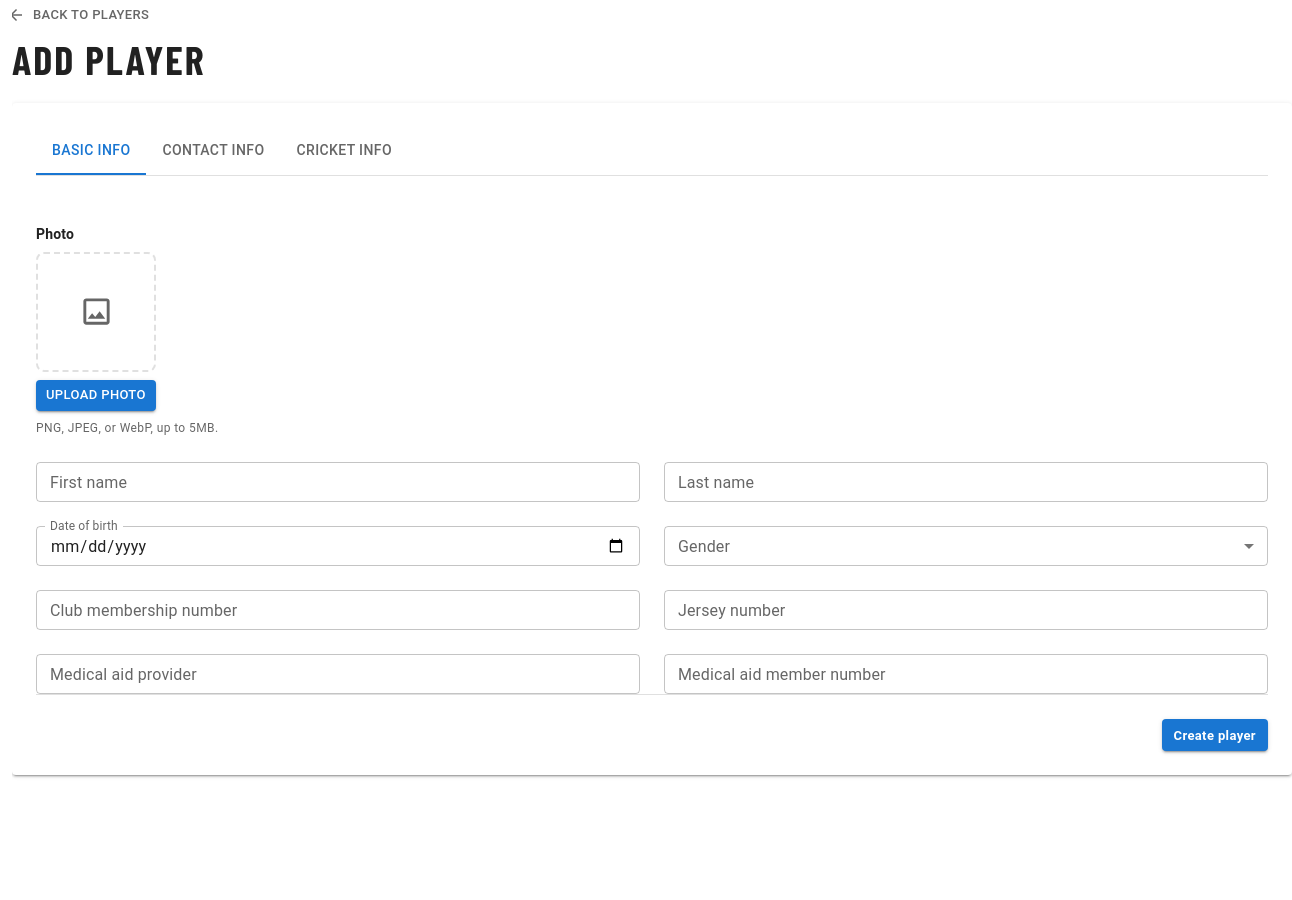
Test: PlayerFormPage › create mode › surfaces the backend's 400 detail in the save-error banner
Step 1. Type "Sipho" into the field labelled "First name" → (338, 482), box [36,462,640,502]
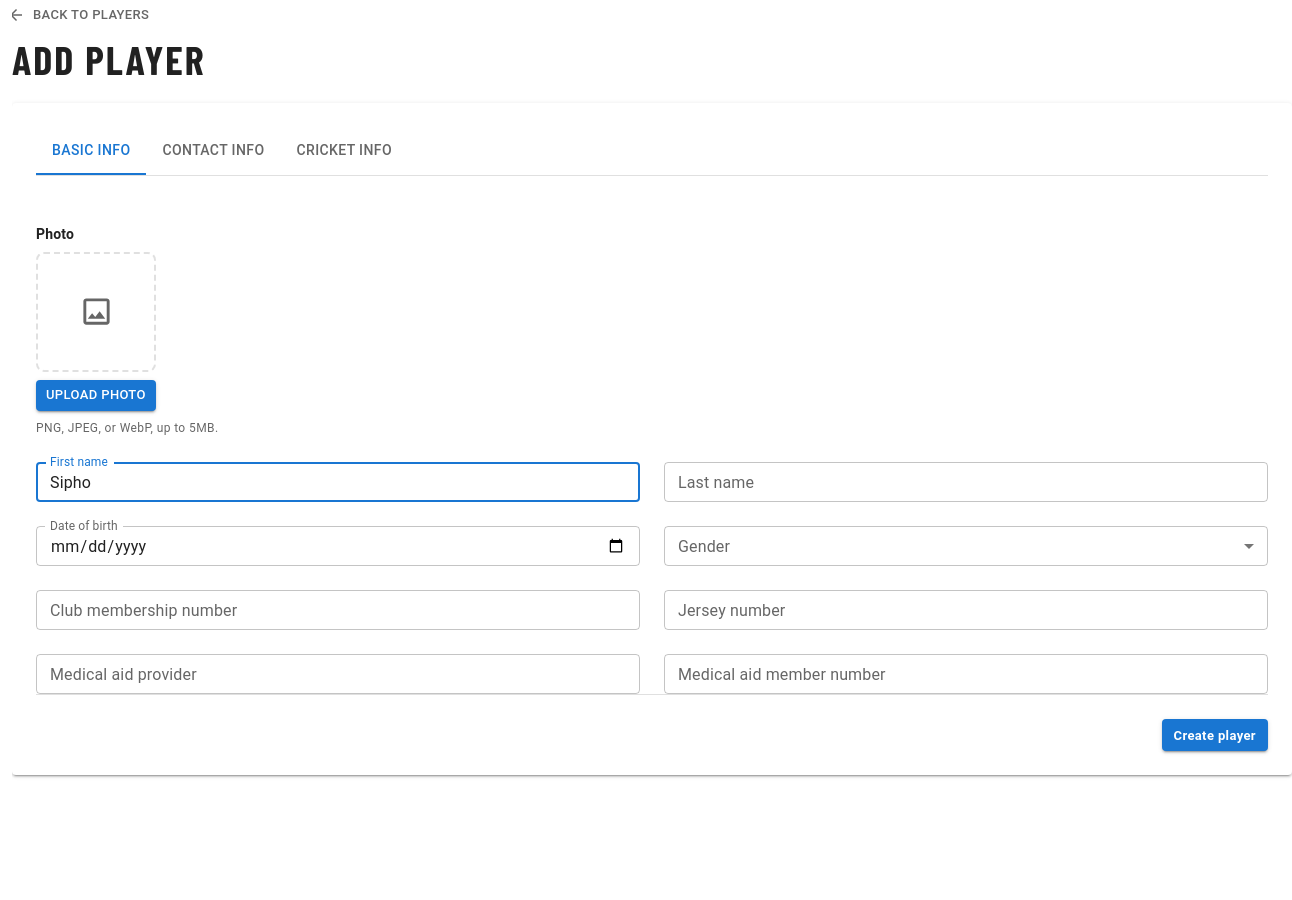
Step 2. Type "Ndlovu" into the field labelled "Last name" → (966, 482), box [664,462,1268,502]
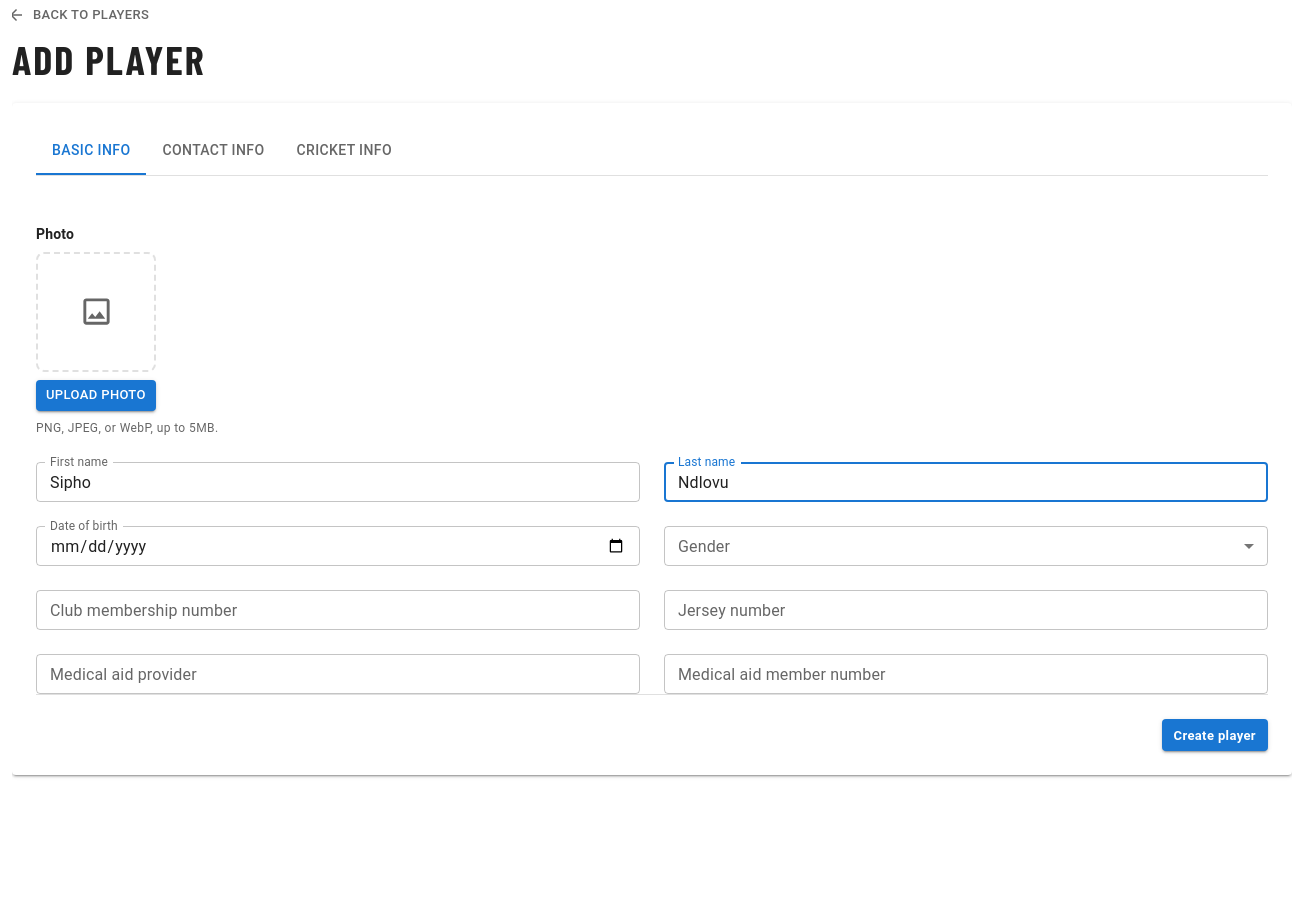
Step 3. Type "2010-04-12" into the date field labelled "Date of birth" → (338, 546), box [36,526,640,566]
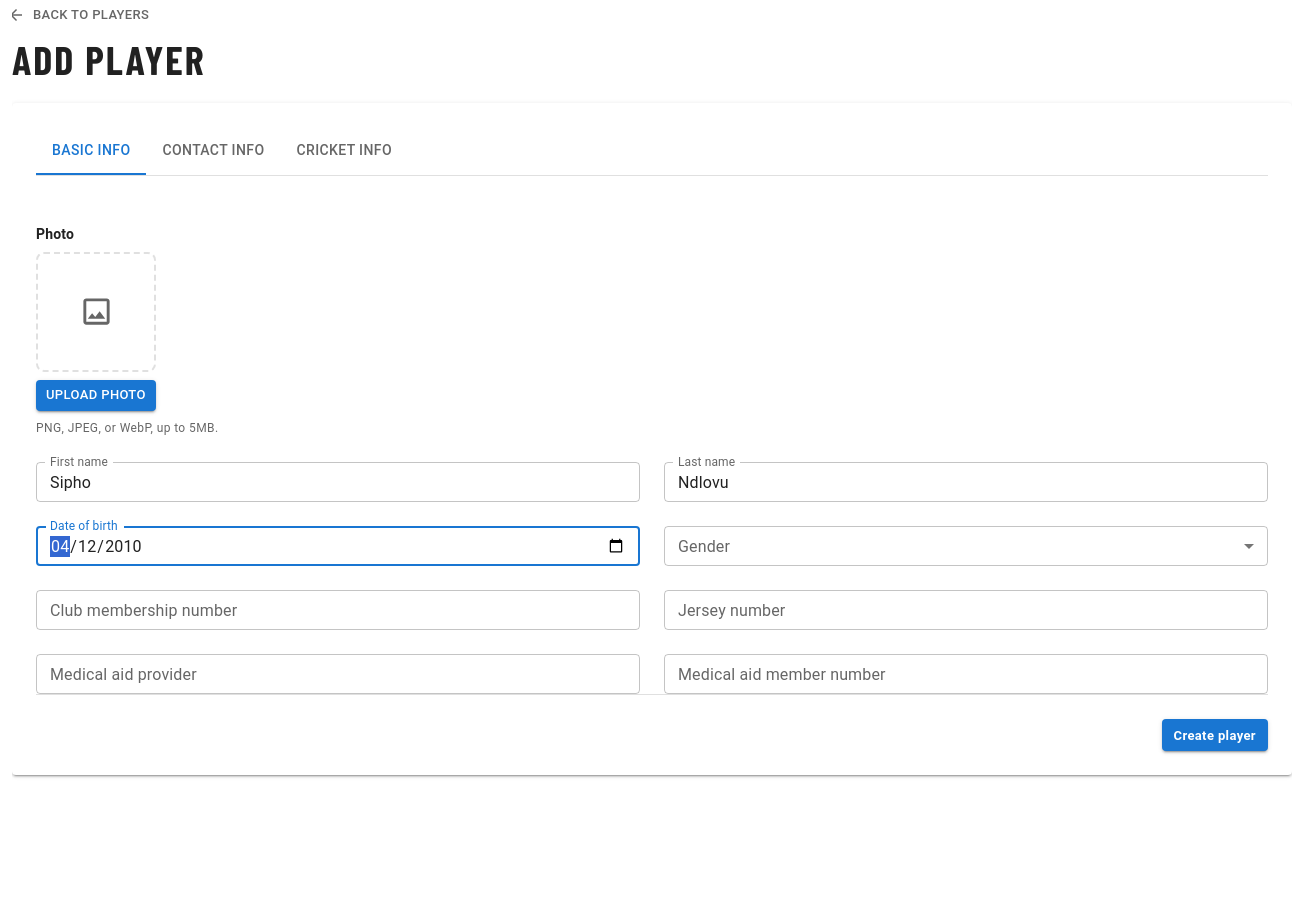
Step 4. Click the button "Create player" → (1215, 735), box [1162,719,1268,751]
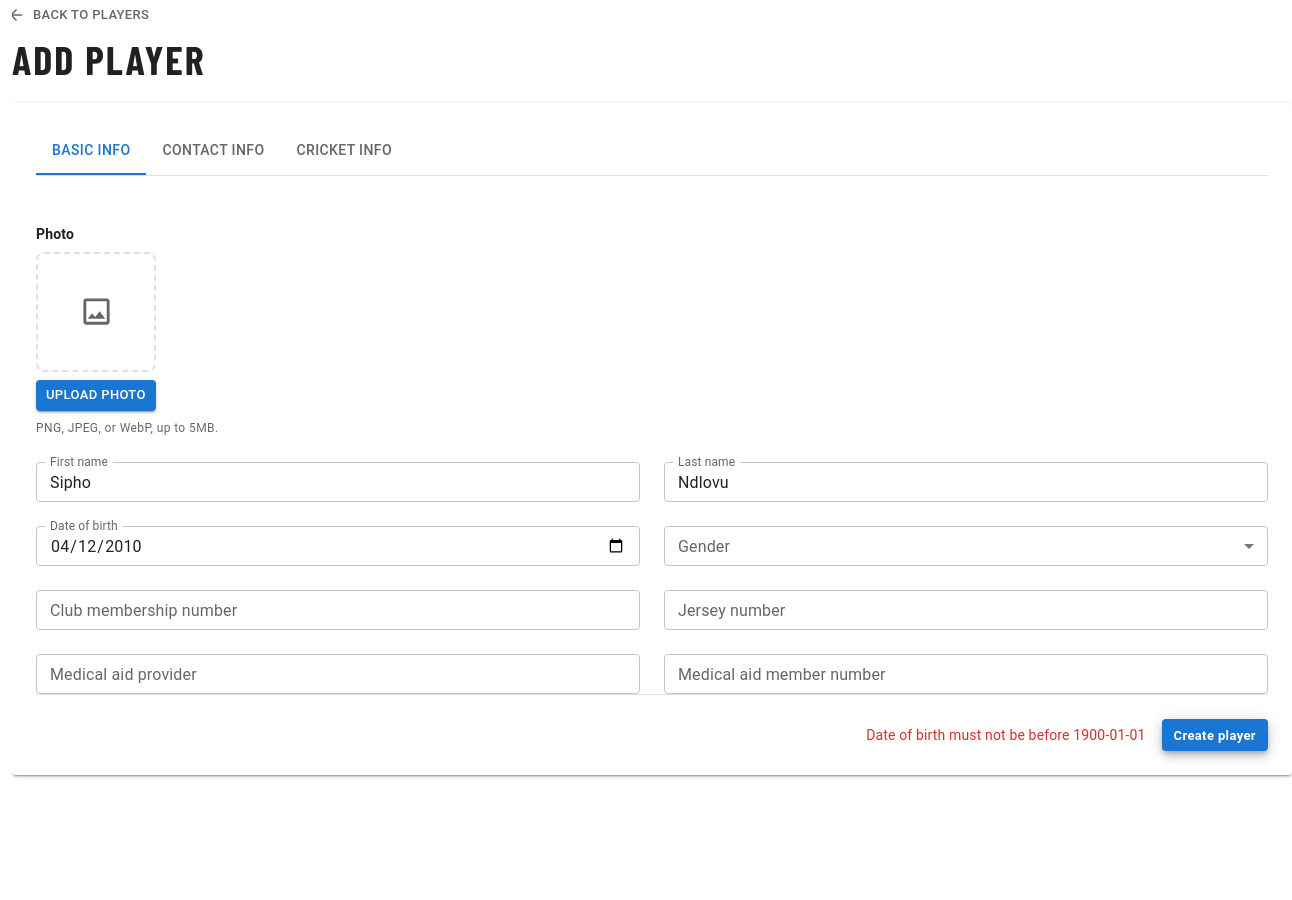
Expected: the text "Date of birth must not be before 1900-01-01" is shown, [866,725,1146,745]
